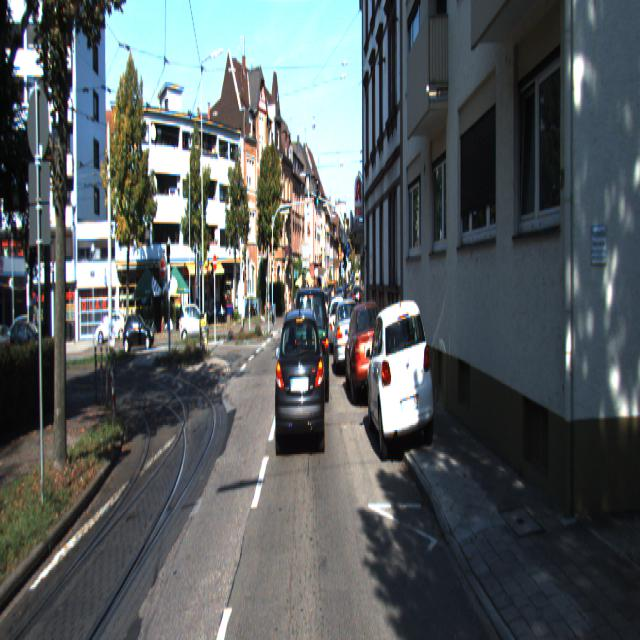Car: (367, 292, 435, 469), (275, 299, 325, 457), (343, 301, 388, 414), (293, 279, 329, 405), (332, 296, 361, 380), (124, 314, 156, 355), (180, 303, 209, 344)
